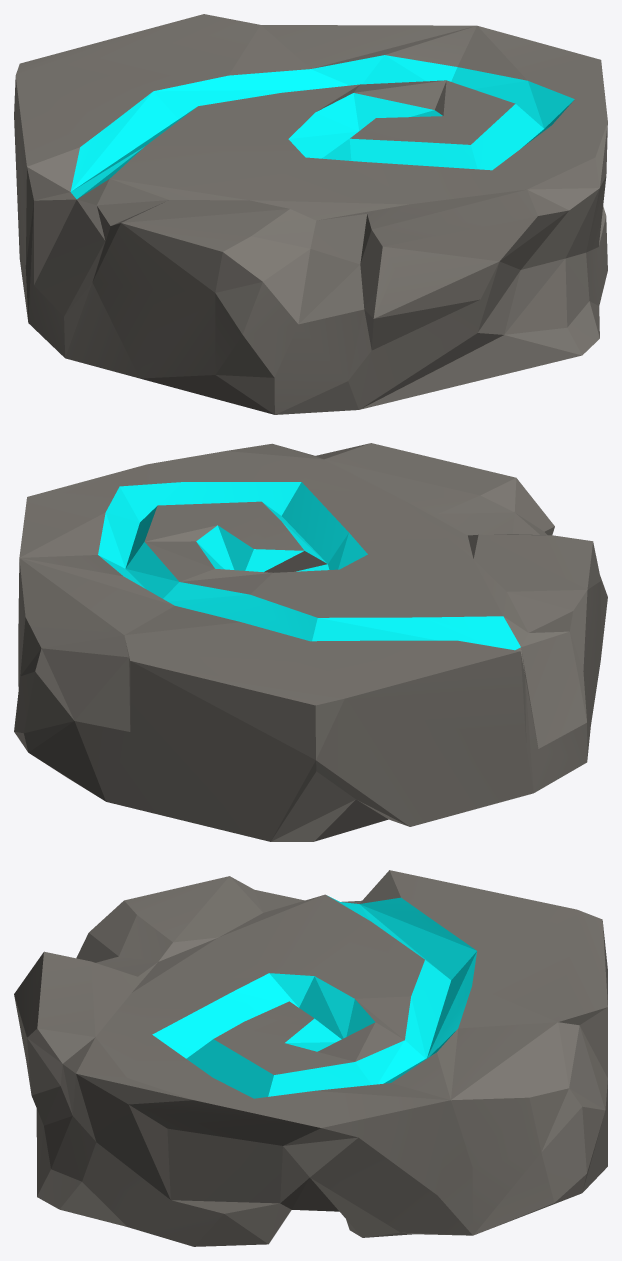
File: SM_Env_Rounded_A_01.glb
3 views of the same model, one above another, from view 1: azimuth 30°, elevation 25°; view 2: azimuth 150°, elevation 25°; view 3: azimuth 270°, elevation 25° (orthographic). The views are drawn at different scales.
Parts seen in each view (by area): view 1: SM_Env_Rounded_A_01; view 2: SM_Env_Rounded_A_01; view 3: SM_Env_Rounded_A_01.
Boxes of the visible parts, box(x1,y1,x2,y2) form: SM_Env_Rounded_A_01: box(14, 14, 607, 414); SM_Env_Rounded_A_01: box(14, 443, 607, 841); SM_Env_Rounded_A_01: box(14, 870, 607, 1246).
Bounding box in the file's own units: 2.65 × 0.7049 × 2.5.
1 material, 1 textured.
